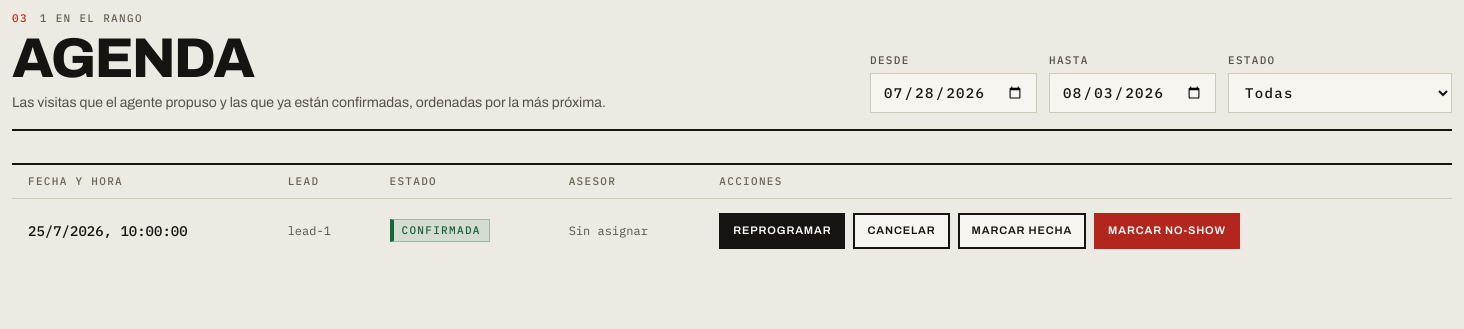
Test: AgendaPage › si el backend rechaza una accion, muestra un error legible y no cambia el estado mostrado
Click the button "Marcar hecha".
click(1022, 231)  # box [958, 213, 1086, 249]
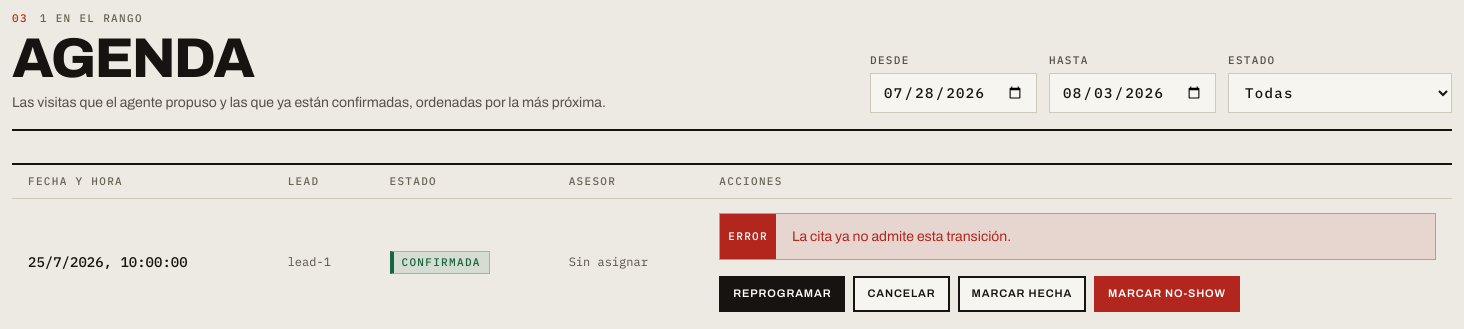
Expected: the button "Marcar hecha" is shown, [958, 276, 1086, 312]
Now the message with test id "error-banner" shows "La cita ya no admite esta transición.", box [792, 229, 1011, 244]
